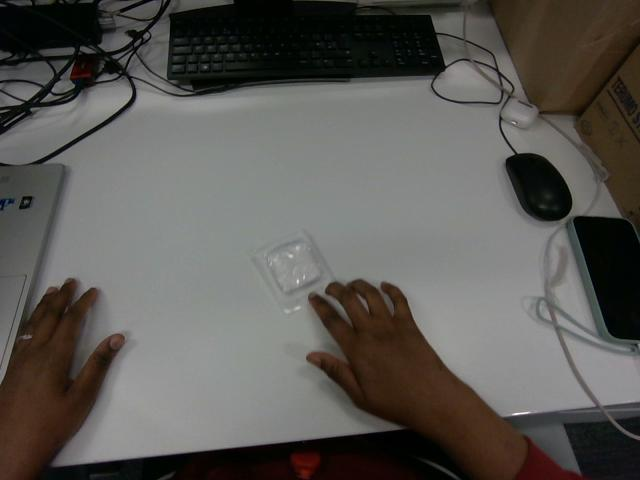gauze: (252, 231, 332, 313)
